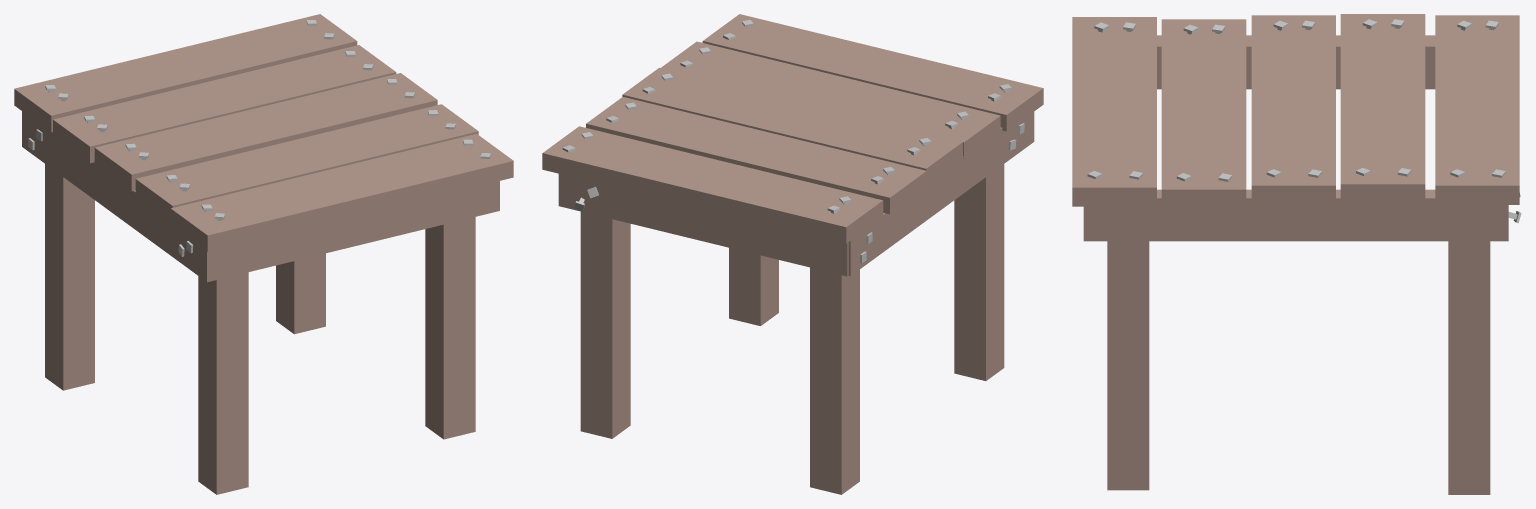
File: wood_table.dae
3 renders of one model, left to right at view 1: azimuth 30°, elevation 25°; view 2: azimuth 150°, elevation 25°; view 3: azimuth 270°, elevation 25°, orthographic. The views are drawn at different scales.
Visible parts, largest first — view 1: model; view 2: model; view 3: model.
Boxes of the visible parts, <box> form: model: <box>14,14,513,494</box>; model: <box>542,14,1043,494</box>; model: <box>1072,14,1521,494</box>.
Size of the model in its own units: 3.82 by 4.2 by 3.39.
